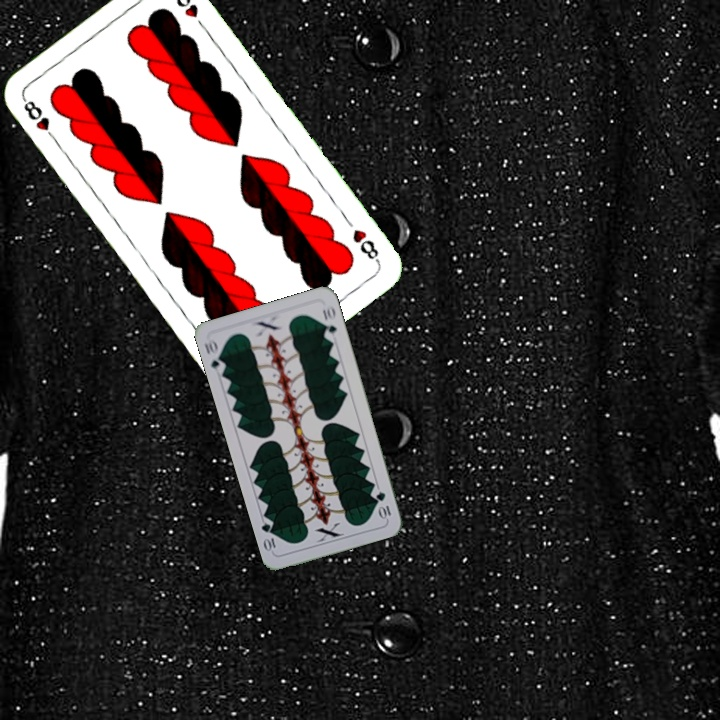G10: (201, 335, 228, 374), (372, 488, 394, 522)
H8: (18, 93, 60, 144), (348, 225, 382, 265)
